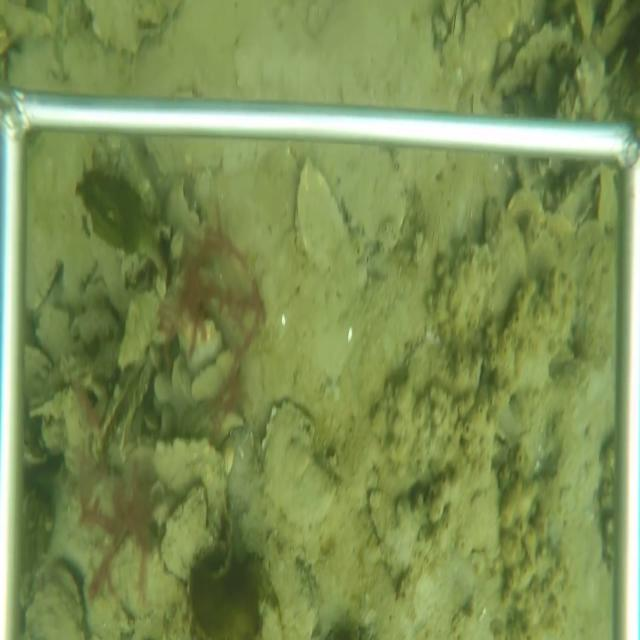Oyster-Closed: (442, 199, 532, 337), (118, 436, 237, 530), (107, 532, 187, 620), (156, 482, 214, 583), (20, 558, 87, 639), (169, 169, 208, 231), (449, 2, 467, 46)
Oyster-Indeterminate: (257, 396, 340, 533), (293, 154, 370, 297), (337, 146, 410, 266), (492, 22, 572, 93)
Oyster-Open: (95, 348, 152, 460), (134, 1, 172, 42)
